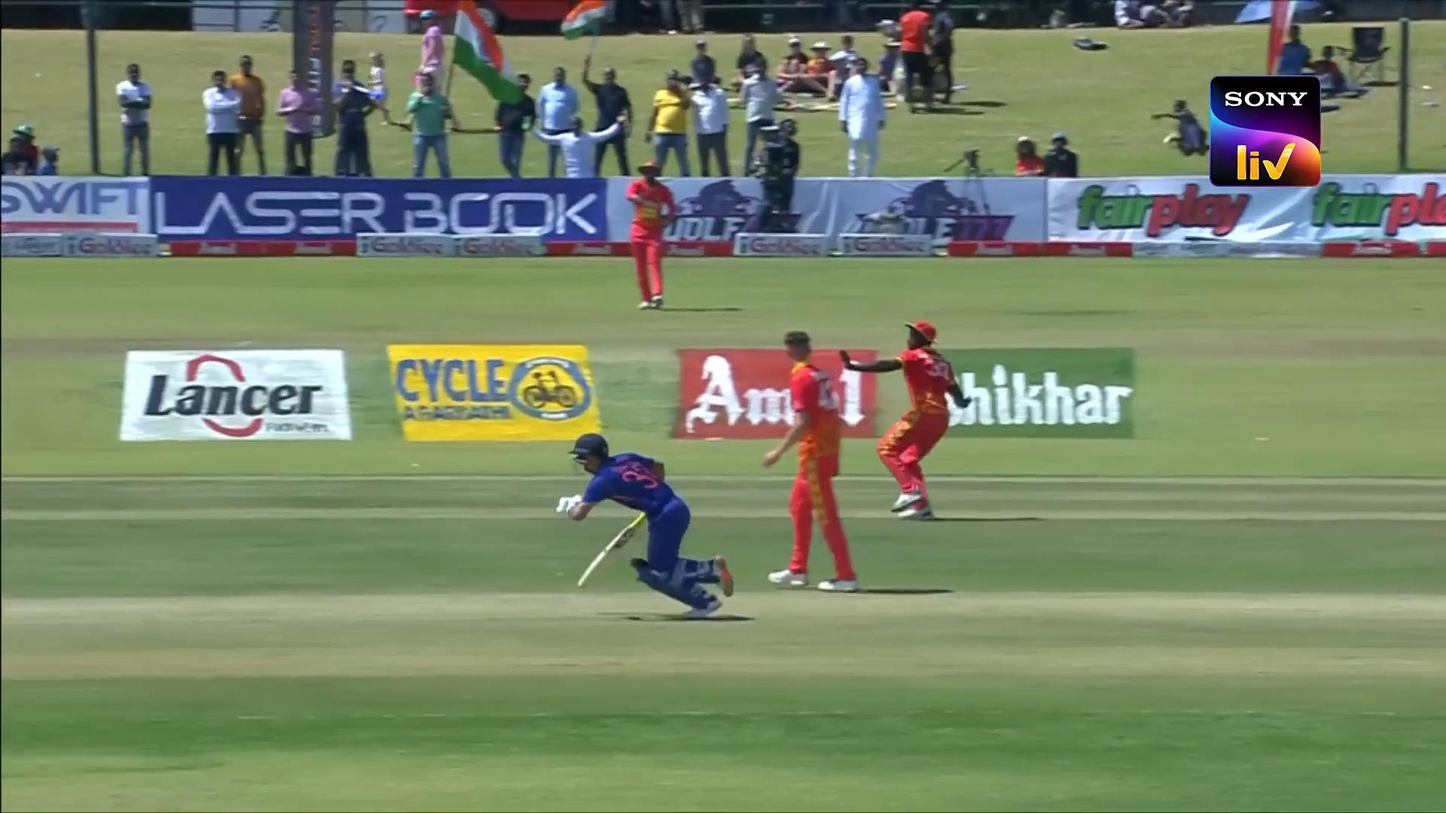batsman: (555, 432, 733, 619)
